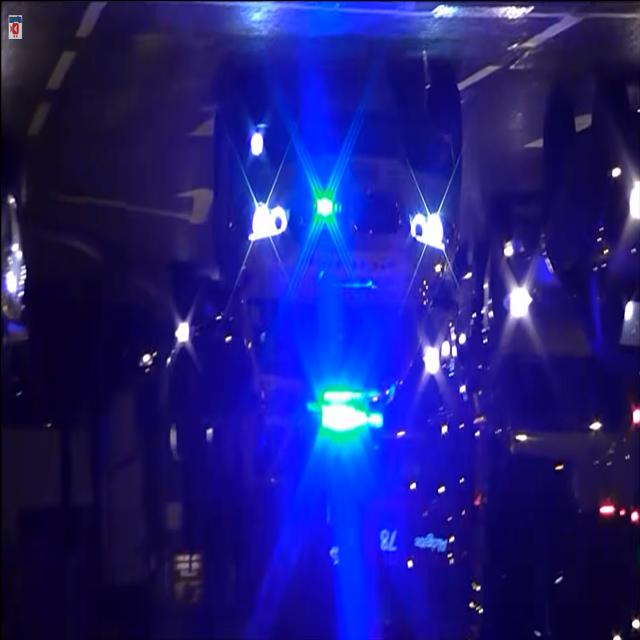emergency-vehicles: (196, 66, 472, 447)
